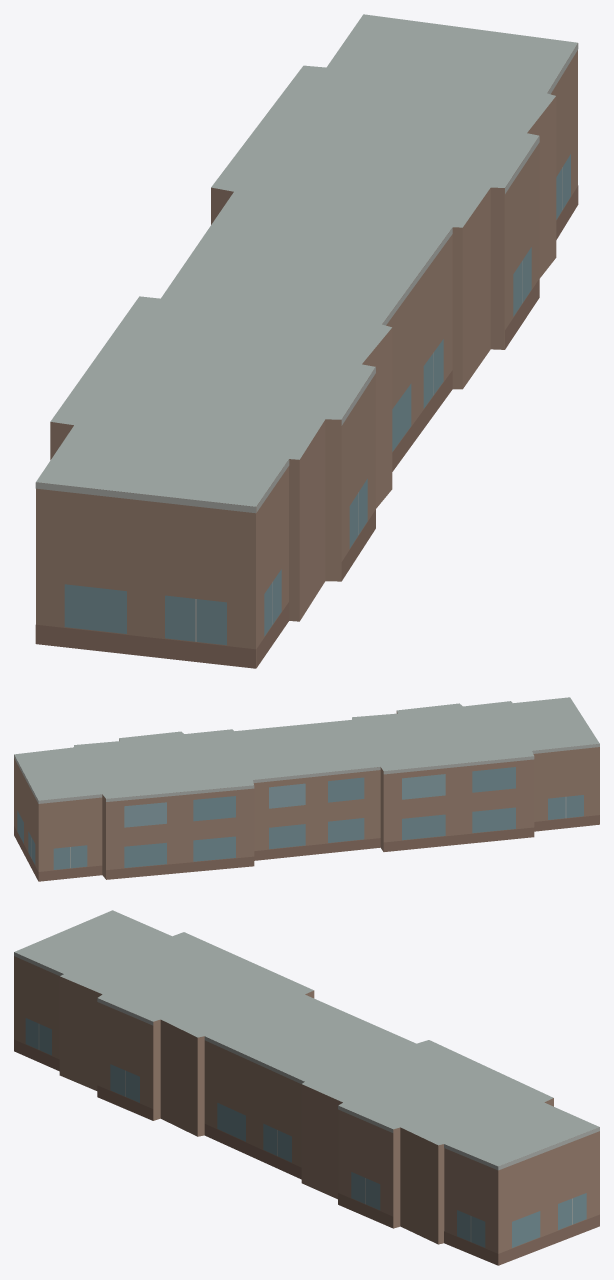
The model's file is survey-upis-32859087.glb.
3 views of the same model, one above another, from view 1: azimuth 30°, elevation 25°; view 2: azimuth 150°, elevation 25°; view 3: azimuth 270°, elevation 25° (orthographic). The views are drawn at different scales.
Parts seen in each view (by area): view 1: survey-upis-32859087.tmp; view 2: survey-upis-32859087.tmp; view 3: survey-upis-32859087.tmp.
Boxes of the visible parts, x1=… form: survey-upis-32859087.tmp: x1=35, y1=14, x2=578, y2=668; survey-upis-32859087.tmp: x1=14, y1=697, x2=599, y2=881; survey-upis-32859087.tmp: x1=14, y1=910, x2=599, y2=1265.
Size of the model in its own units: 33.81 by 6.1 by 32.65.
